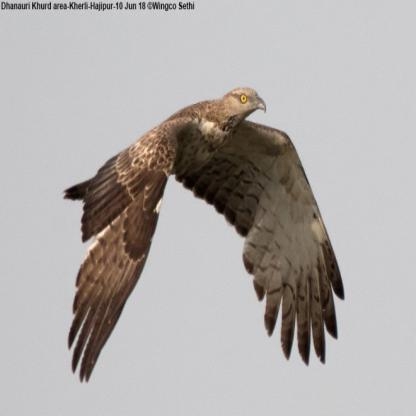Burung: (62, 88, 345, 384)
